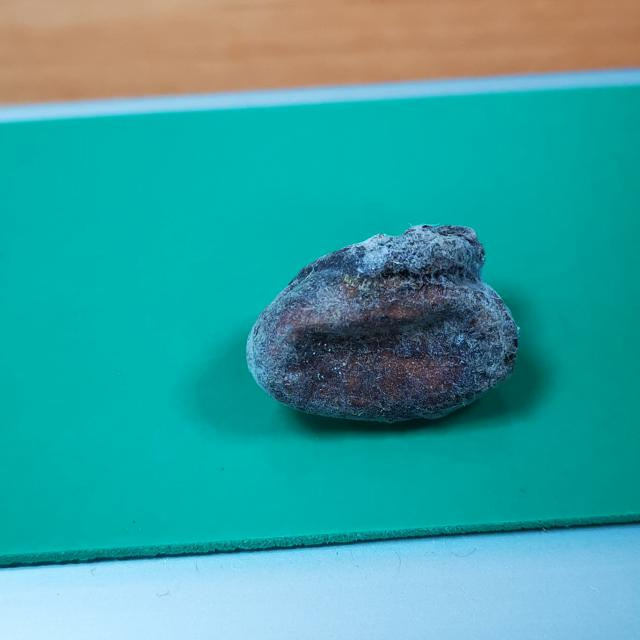Agglomerated_cocoabeans: (89, 153, 611, 498)
